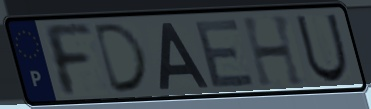A: (157, 19, 212, 92)
D: (92, 20, 152, 96)
E: (192, 16, 258, 90)
F: (38, 22, 95, 99)
H: (239, 13, 309, 90)
U: (293, 12, 351, 85)
